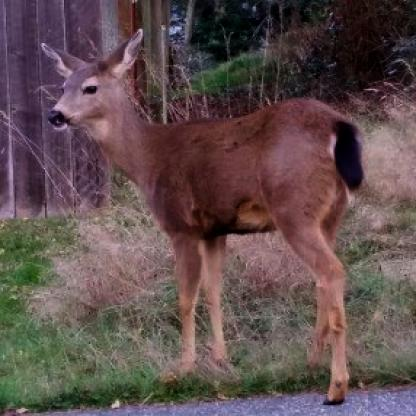Deer: (40, 29, 364, 406)
